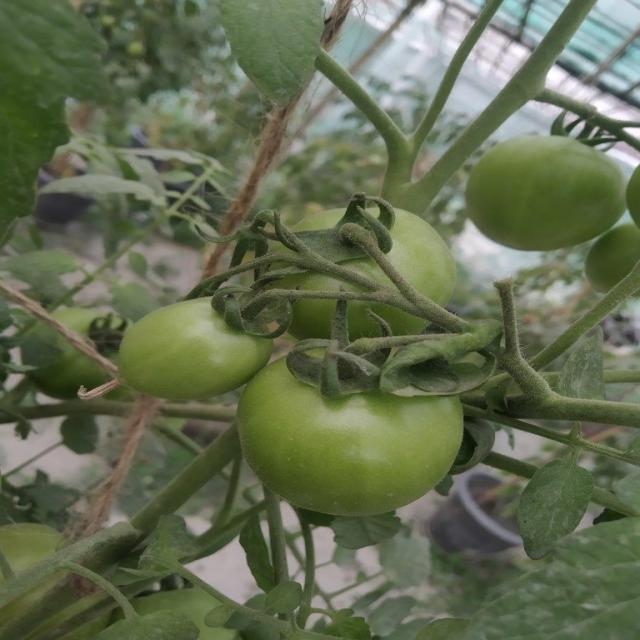Unripe: (236, 356, 470, 521), (461, 131, 628, 254), (111, 298, 261, 404)
